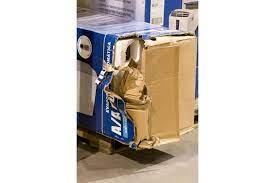damage_box: (77, 7, 202, 153)
